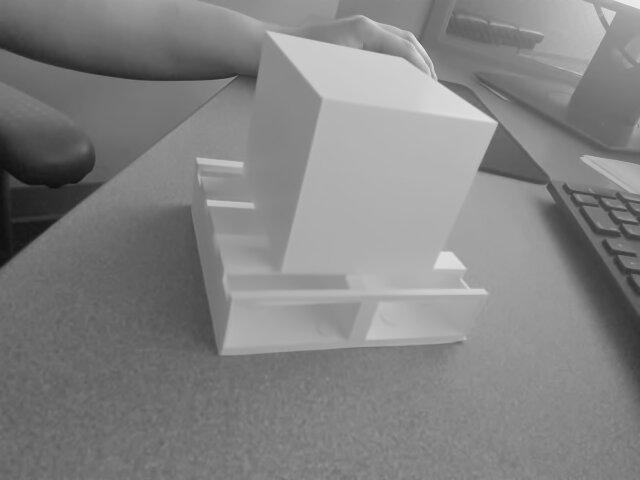white pallet: (141, 19, 504, 372)
